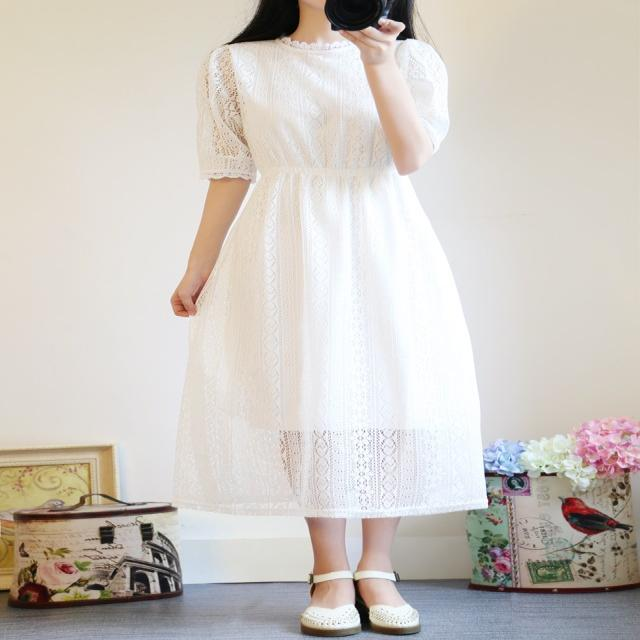clothes: (169, 38, 492, 514)
